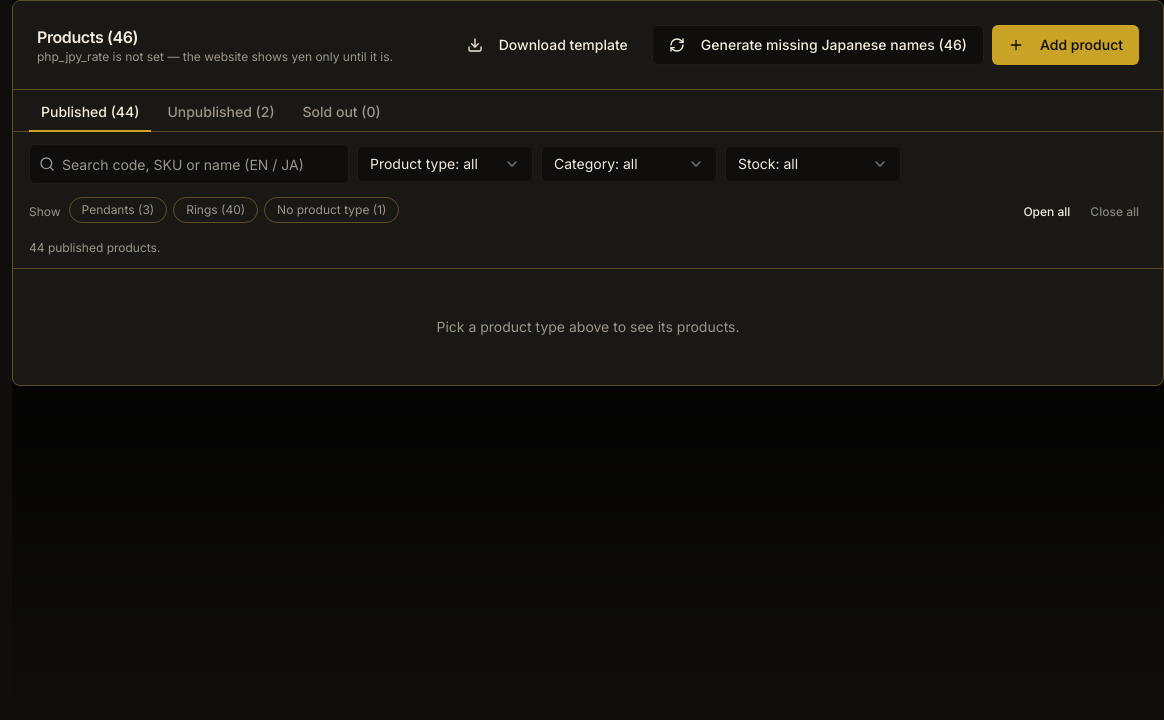
Scenario: Catalog: product types picked by chip, with paging › a type of 25 or fewer has no pager
This screenshot has width=1164, height=720.
Click the button "Pendants (3)" at (118, 210), box [69,197,167,223]
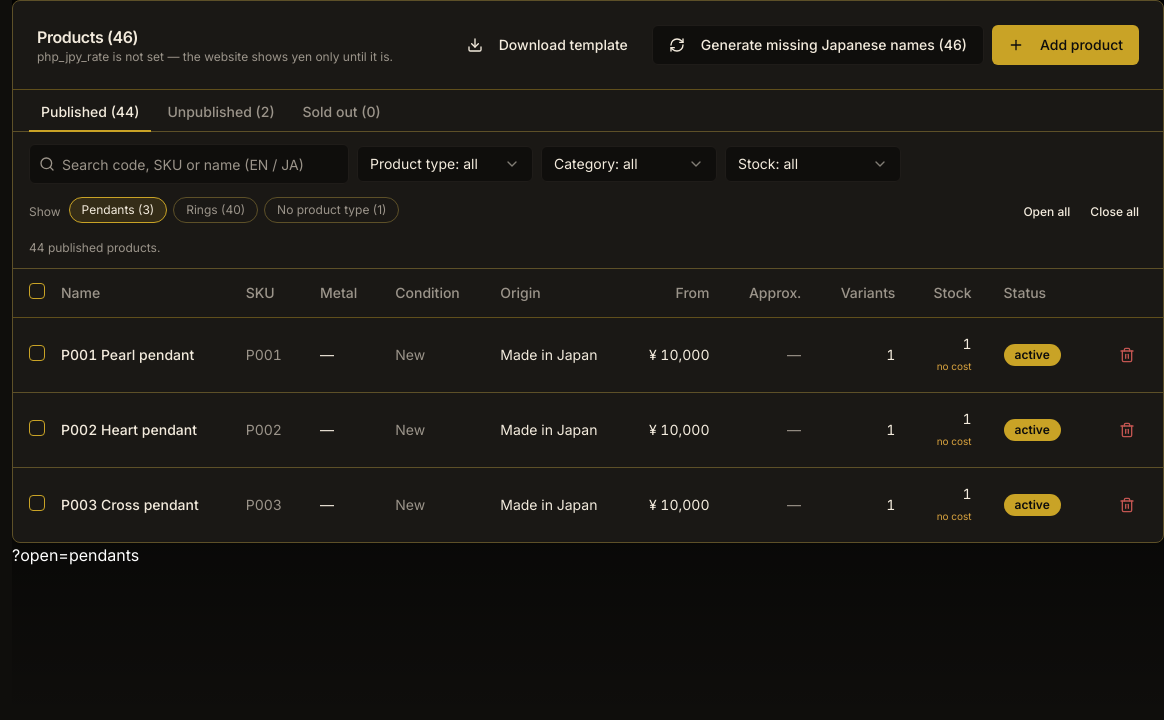
Result: the number of checkboxes named "Select P001" is 3 at [29,344,45,360]; [29,420,45,436]; [29,494,45,510]
